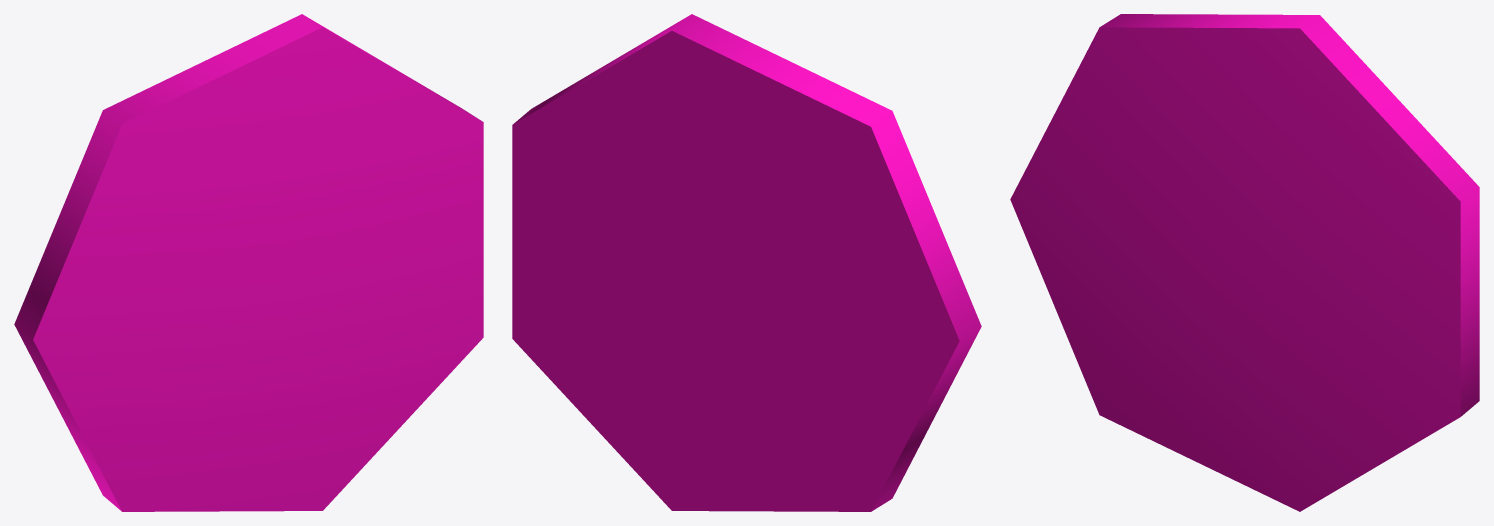
The model's file is study_clock_wall_1_meshCollider.fbx.
3 views of the same model, side by side, from view 1: azimuth 30°, elevation 25°; view 2: azimuth 150°, elevation 25°; view 3: azimuth 330°, elevation 25° (orthographic).
Visible parts, largest first — view 1: study_clock_wall_1_meshCollider; view 2: study_clock_wall_1_meshCollider; view 3: study_clock_wall_1_meshCollider.
Boxes of the visible parts, x1=… form: study_clock_wall_1_meshCollider: x1=14, y1=14, x2=483, y2=511; study_clock_wall_1_meshCollider: x1=512, y1=14, x2=981, y2=511; study_clock_wall_1_meshCollider: x1=1010, y1=14, x2=1479, y2=511.
Size of the model in its own units: 30.93 by 31.73 by 3.99.
